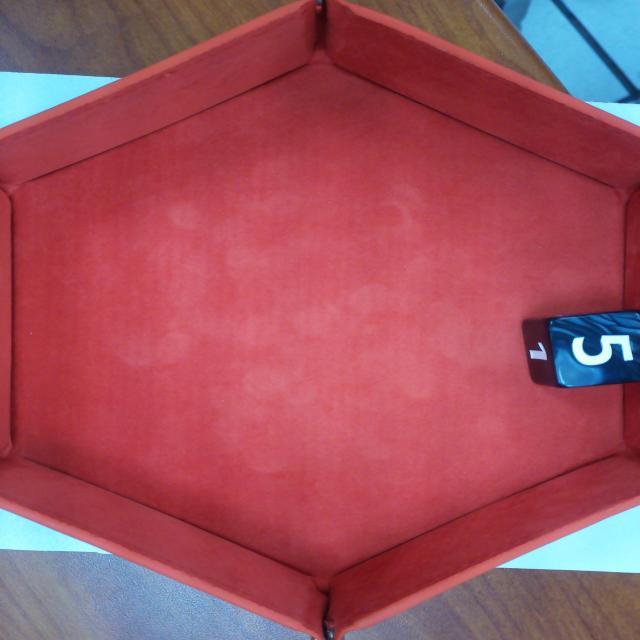dice: (555, 314, 638, 385)
